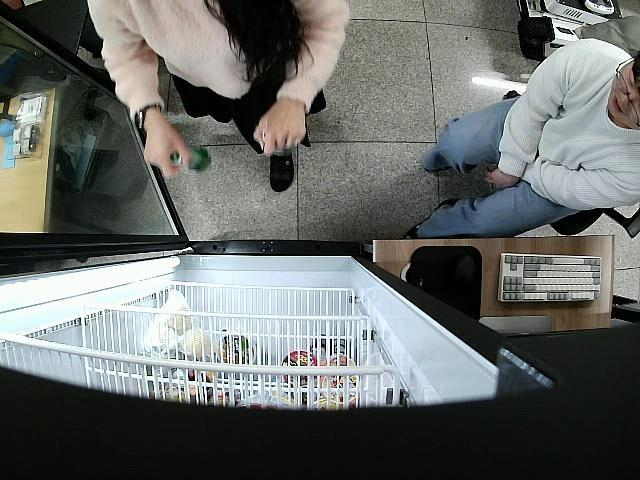18_trevi: (170, 144, 215, 175)
